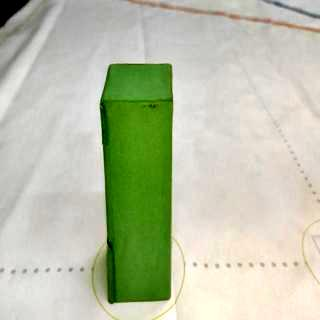greenbox: (98, 61, 177, 304)
